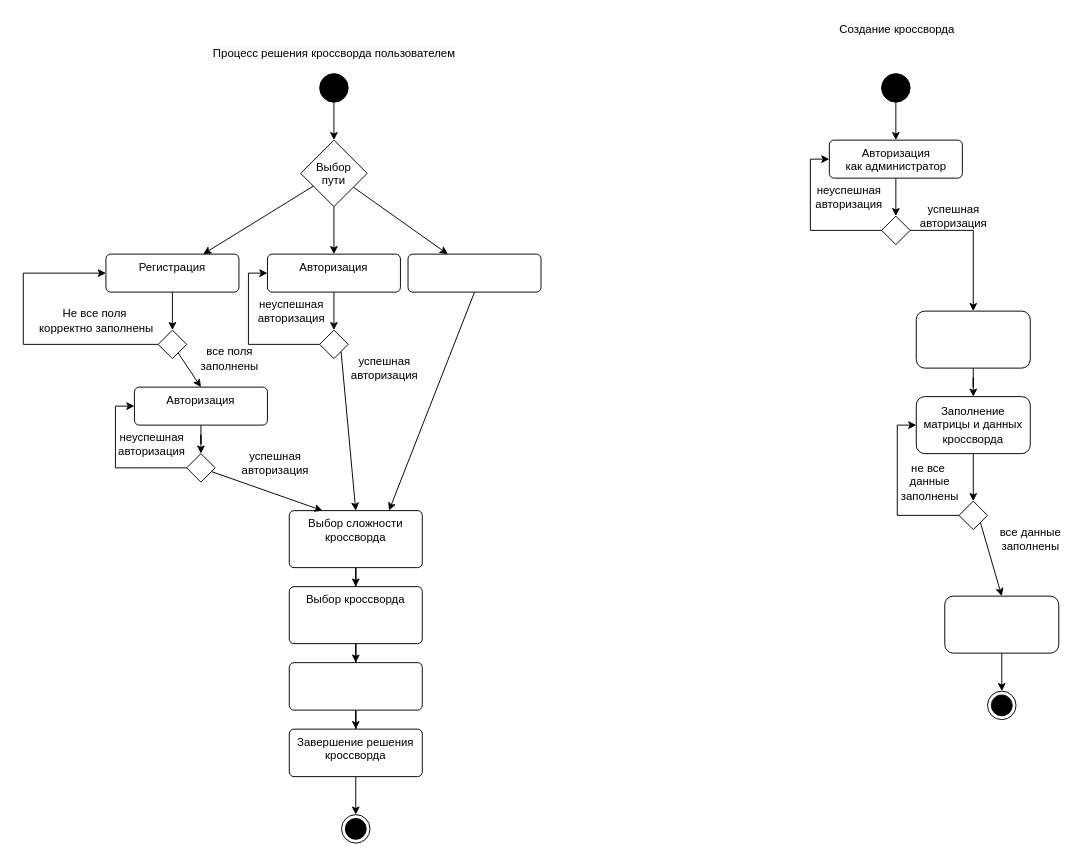
The diagram is 1090 pixels wide and 860 high, and some of its shapes have lost their labels. The box of each missing label's shape, as (x1, y1, x2, y2) in pixels:
Добавление нового кроссворда: (944, 595, 1059, 653)
Играть как гость: (407, 253, 541, 292)
Начало создания кроссворда: (915, 310, 1030, 368)
Решение кроссворда: (288, 662, 422, 710)
